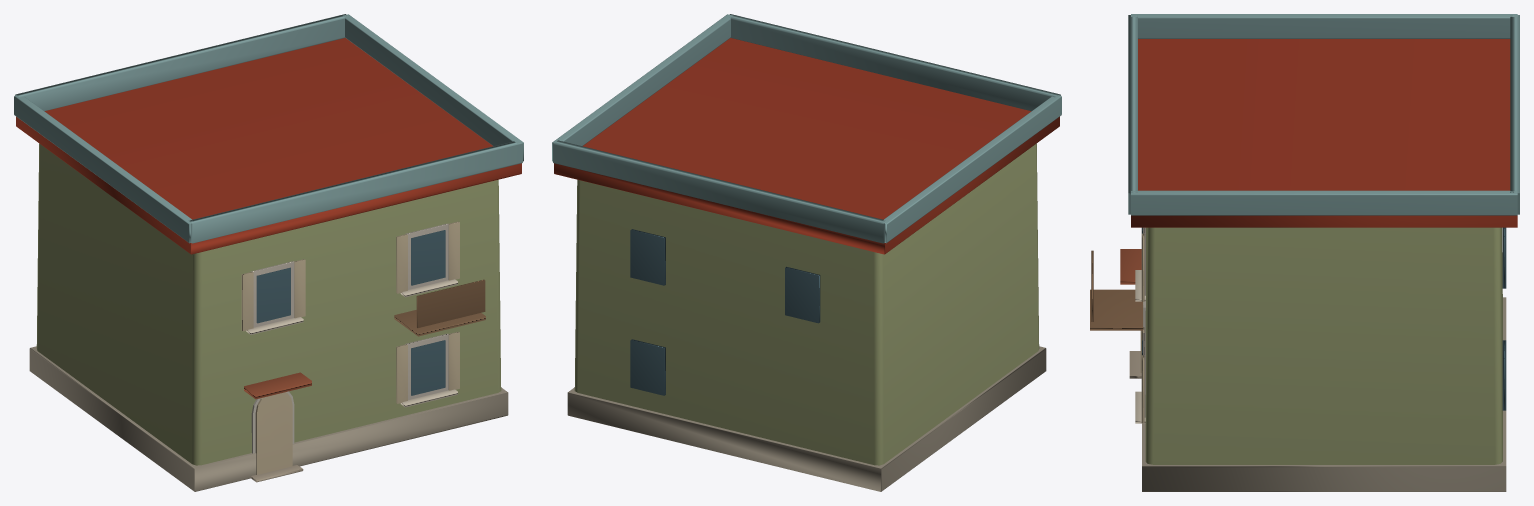
File: house_15.glb
The picture shows the model from 3 angles, left to right: view 1: azimuth 30°, elevation 25°; view 2: azimuth 150°, elevation 25°; view 3: azimuth 270°, elevation 25°; orthographic projection. The views are drawn at different scales.
Parts seen in each view (by area): view 1: house_15; view 2: house_15; view 3: house_15.
Boxes of the visible parts, x1,y1,x2,y2 form: house_15: [14, 14, 523, 491]; house_15: [552, 14, 1061, 491]; house_15: [1090, 14, 1519, 491].
Size of the model in its own units: 8.91 by 7.03 by 8.95.
